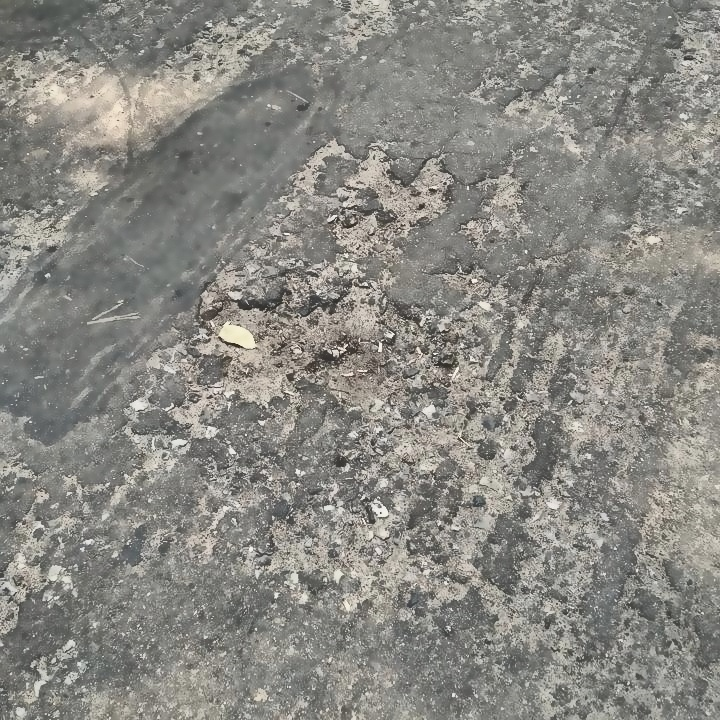pothole: (187, 272, 436, 413), (297, 140, 457, 256)
